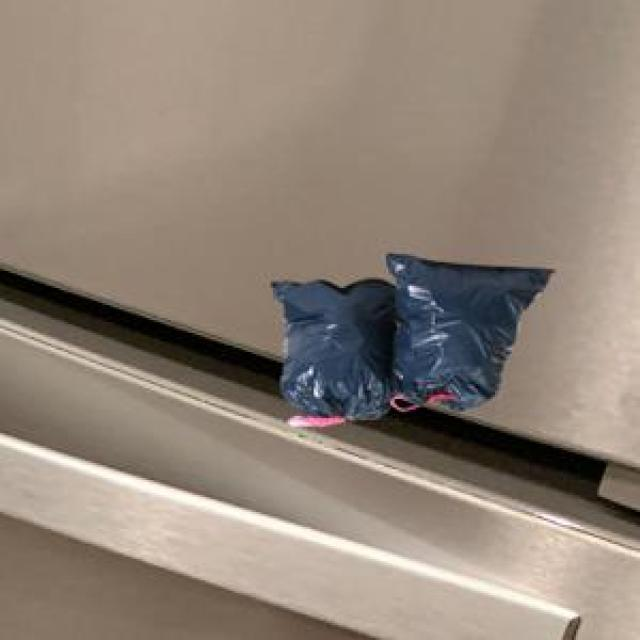miscellaneous trash: (269, 250, 550, 422)
